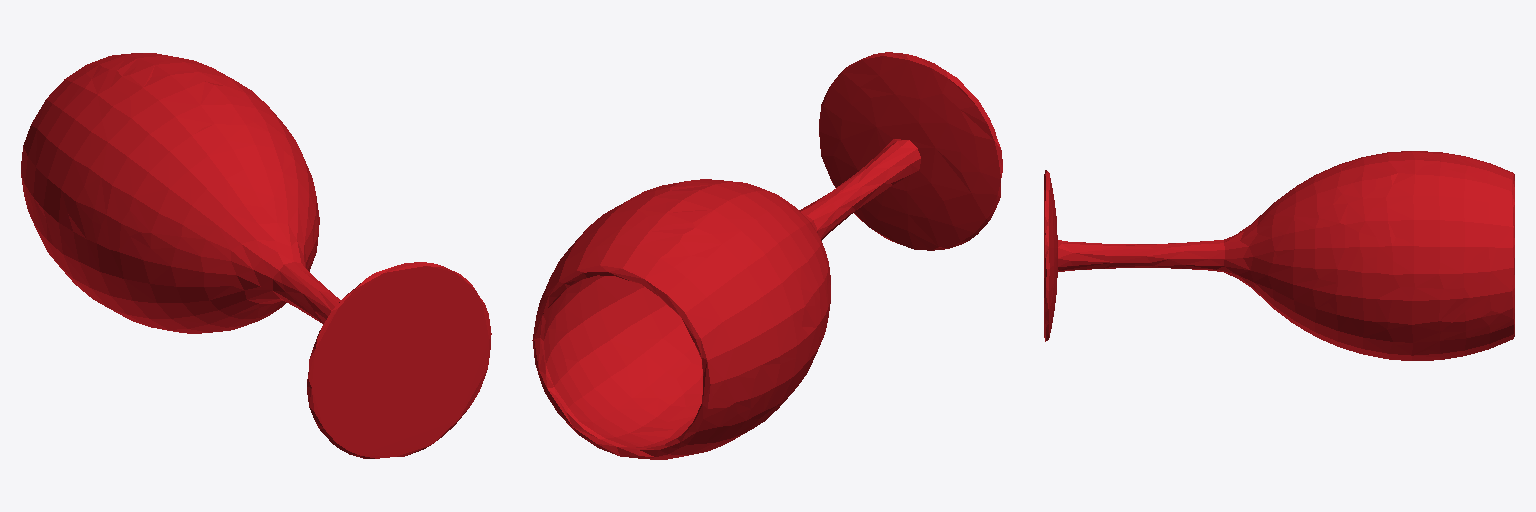
The robot description file, URDF, robot "glass":
<?xml version="1.0" ?>
<robot name="glass">
  <link name="world"/>
  <joint name="glass_to_world" type="floating">
    <parent link="world"/>
    <child link="base_link"/>
    <origin xyz="0 0 0" rpy="0 0 0" />
  </joint>
  <link name="base_link">
    <inertial>
       <origin rpy="0 0 0" xyz="0 0 0"/>
       <mass value="2.2687400131198525"/>
       <inertia ixx="0.03433209139724946" ixy="1.7920980509046207e-06" ixz="-1.0351848081649634e-05" iyx="1.7920980509046207e-06" iyy="0.01000445384192556" iyz="6.2724331211695816e-06" izx="-1.0351848081649634e-05" izy="6.2724331211695816e-06" izz="0.034329769220318086"/>
    </inertial>
    <visual>
      <origin rpy="0 0 0" xyz="0 0 0"/>
      <geometry> <mesh filename="glass.obj" scale="1.0 1.0 1.0"/> </geometry>
      <material name="white"> <color rgba="0.7843137254901961 0.1411764705882353 0.17254901960784313 0.8"/> </material>
    </visual>
    <collision>
      <origin rpy="0 0 0" xyz="0 0 0"/>
      <geometry> <mesh filename="glass.obj" scale="1.0 1.0 1.0"/> </geometry>
    </collision>
  </link>
</robot>

--- Render facts (derived) ---
3 views of the same robot in one strip: view 1: azimuth 30°, elevation 25°; view 2: azimuth 150°, elevation 25°; view 3: azimuth 270°, elevation 25° (orthographic).
Model glass with 2 links and 1 joints (1 floating), rooted at world, posed every joint at zero.
Visible links, largest first — view 1: base_link; view 2: base_link; view 3: base_link.
Link boxes in pixels (x1,y1,x2,y2): base_link: (21, 53, 491, 458); base_link: (532, 52, 1002, 459); base_link: (1044, 151, 1514, 360).
Size in the robot's own frame: 0.1735 by 0.3863 by 0.1737 metres.
1 mesh visuals loaded from 1 distinct referenced files (1 OBJ).